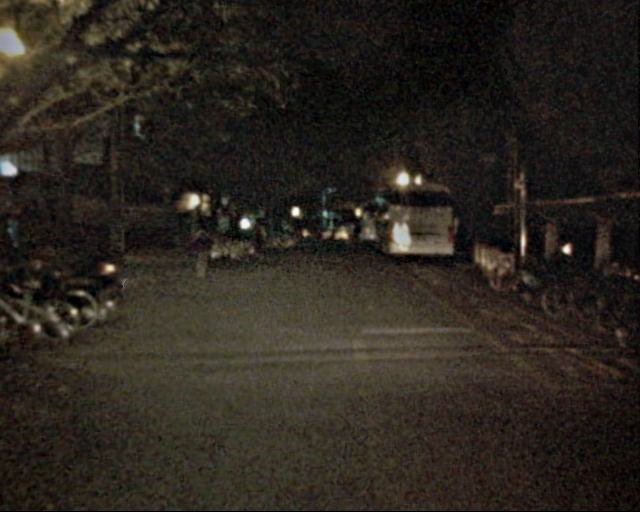person: (187, 217, 212, 279), (247, 215, 265, 258), (343, 220, 362, 247)
